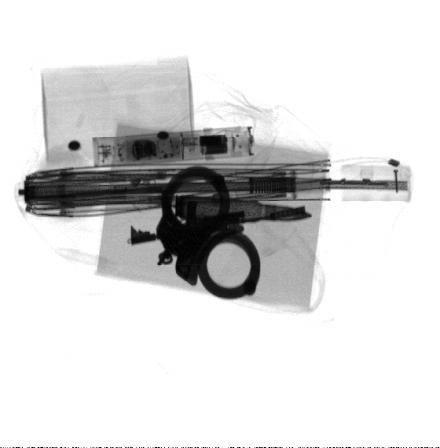Baton: (92, 127, 254, 168)
Bullet: (176, 196, 313, 223)
Gun: (130, 205, 307, 246)
HandCuffs: (155, 166, 264, 298)
